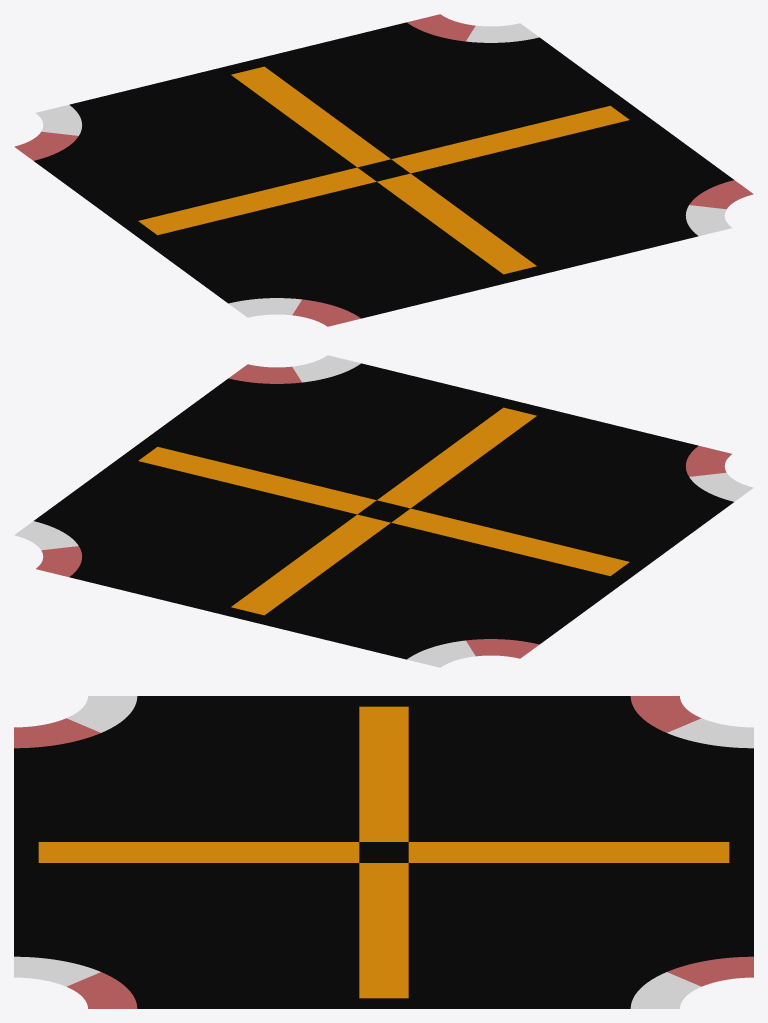
The model's file is Just Track Crossroads.fbx.
The picture shows the model from 3 angles, top to bottom: view 1: azimuth 30°, elevation 25°; view 2: azimuth 150°, elevation 25°; view 3: azimuth 270°, elevation 25°; orthographic projection. The views are drawn at different scales.
Visible parts, largest first — view 1: Just Track Crossroads; view 2: Just Track Crossroads; view 3: Just Track Crossroads.
Part boxes in pixels (x1=…): Just Track Crossroads: x1=14, y1=14, x2=753, y2=326; Just Track Crossroads: x1=14, y1=355, x2=753, y2=667; Just Track Crossroads: x1=14, y1=696, x2=753, y2=1008.
Size of the model in its own units: 3 by 0 by 3.
